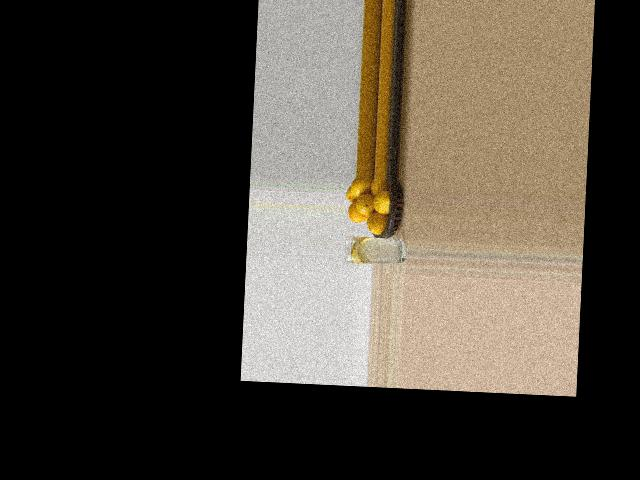lemon: (347, 177, 373, 199)
